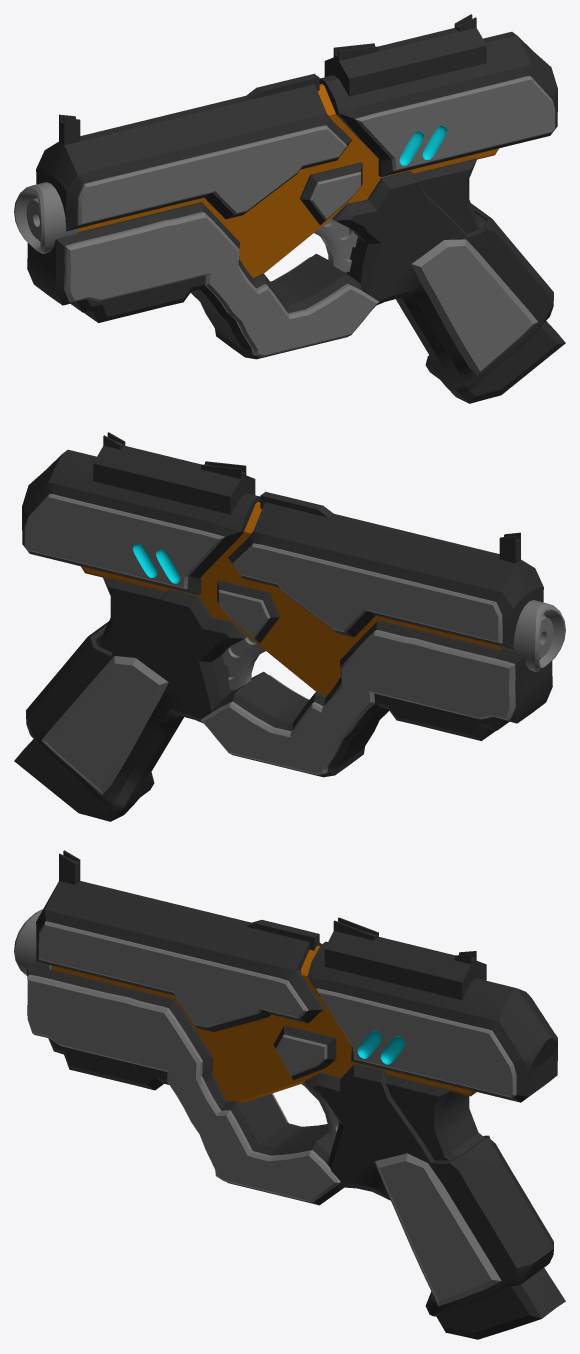
Rendered from Gun.fbx.
3 renders of one model, top to bottom at view 1: azimuth 30°, elevation 25°; view 2: azimuth 150°, elevation 25°; view 3: azimuth 330°, elevation 25°, orthographic.
Parts seen in each view (by area): view 1: polySurface20; view 2: polySurface20; view 3: polySurface20.
Part boxes in pixels (x1,y1,x2,y2): polySurface20: (14, 14, 565, 403); polySurface20: (14, 432, 565, 821); polySurface20: (14, 850, 565, 1339).
Size of the model in its own units: 14.29 by 9.74 by 1.97.
